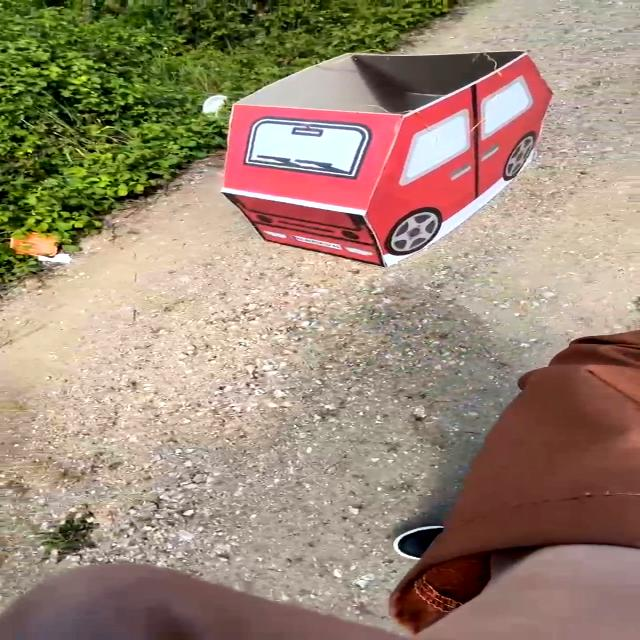red_car: (171, 35, 589, 280)
